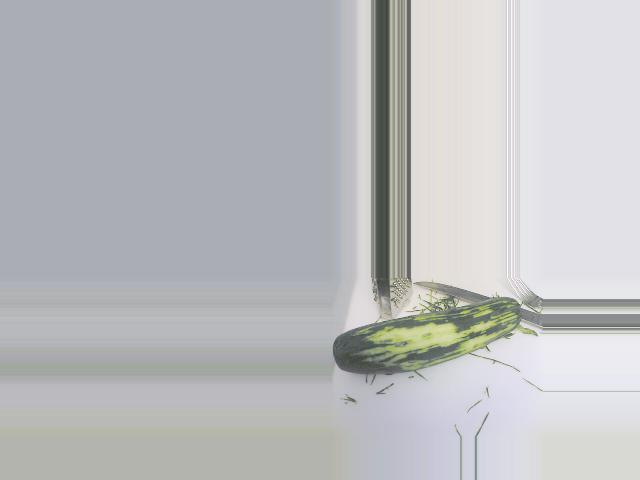cucumber: (333, 296, 522, 375)
